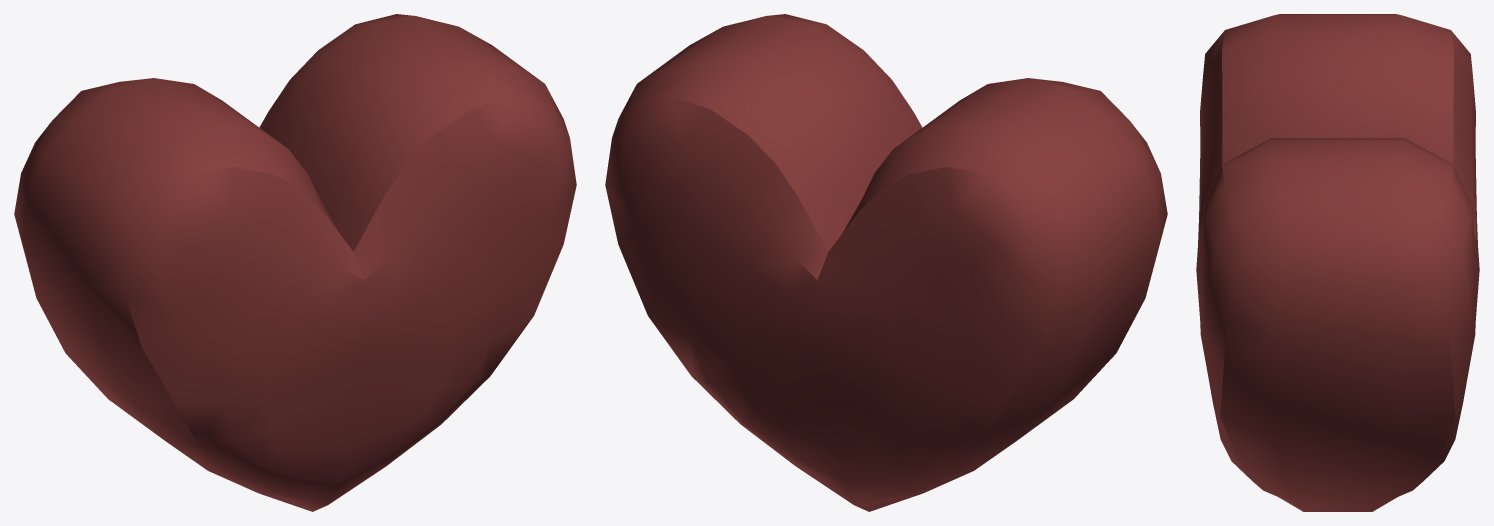
Rendered from heart.glb.
3 views of the same model, side by side, from view 1: azimuth 30°, elevation 25°; view 2: azimuth 150°, elevation 25°; view 3: azimuth 270°, elevation 25° (orthographic).
Visible parts, largest first — view 1: Heart; view 2: Heart; view 3: Heart.
Part boxes in pixels (box(x1,y1,x2,y2)): Heart: box(14, 14, 576, 511); Heart: box(605, 14, 1167, 511); Heart: box(1196, 14, 1479, 511).
Bounding box in the file's own units: 1.48 × 1.24 × 0.7542.
